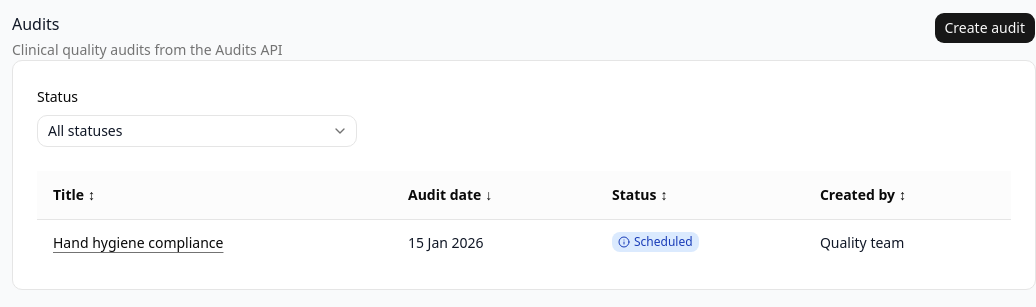
Test: AuditsView › keeps table region mounted and shows refetch overlay when a sort column header is clicked
Check: the element named "Audits list, scrollable" is shown, box x1=37 y1=171 x2=1011 y2=265
Step 1. Click the button "Audit date ↓" → (450, 195), box x1=408 y1=183 x2=492 y2=207
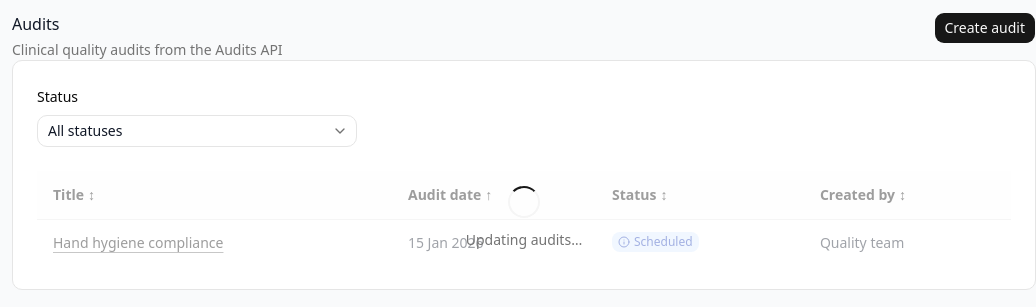
Check: the element named "Audits list, scrollable" is shown, box x1=37 y1=171 x2=1011 y2=265
Check: the message reads "Updating audits…", box x1=466 y1=230 x2=582 y2=249
